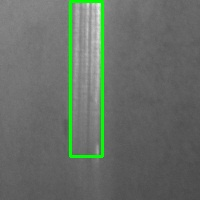scratches: (70, 1, 102, 156)
